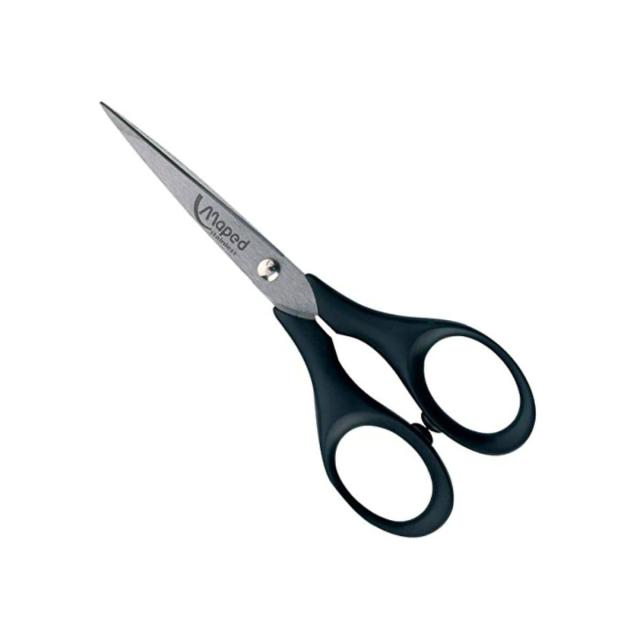scissor: (84, 92, 549, 549)
